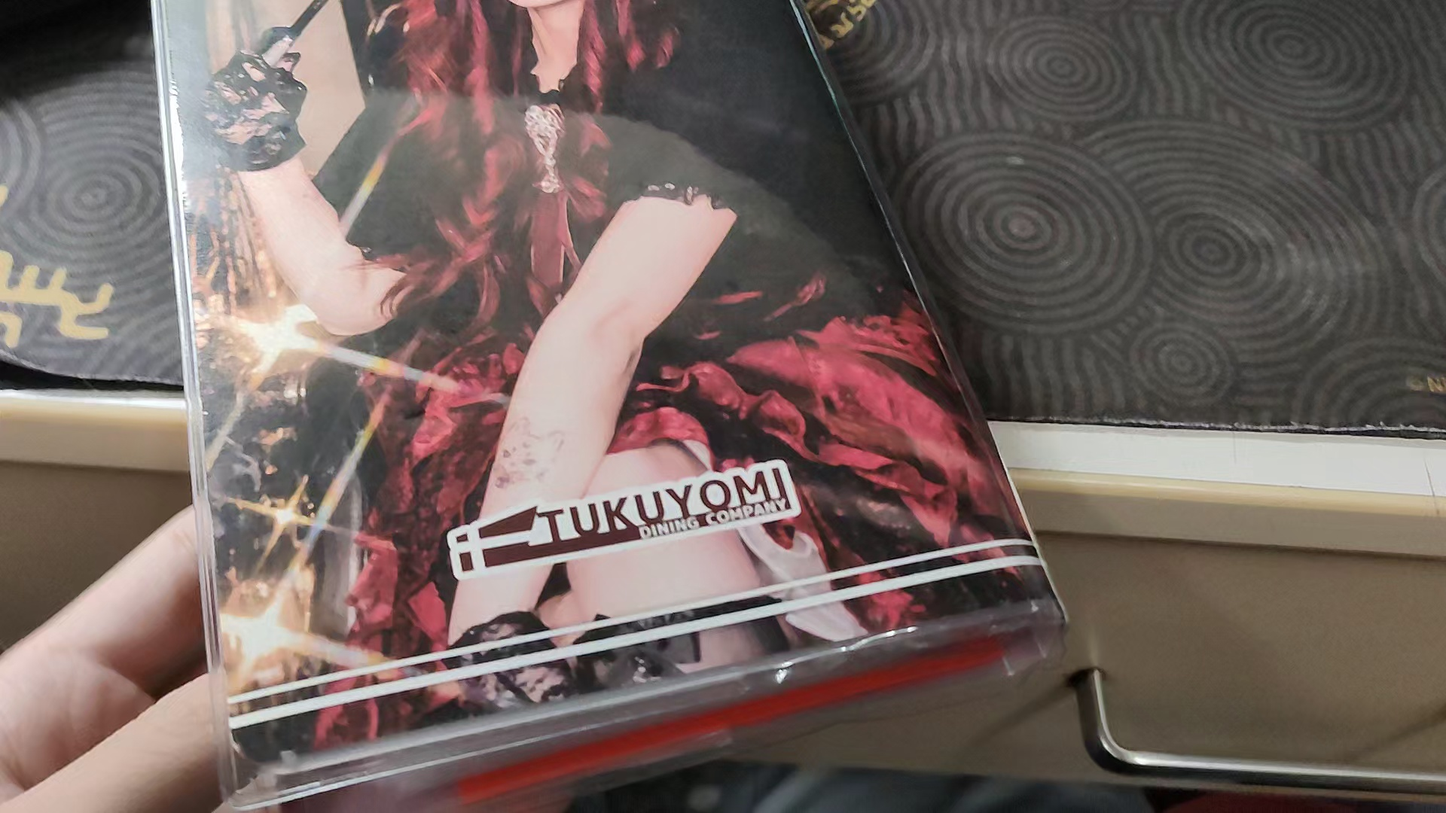Photo_book: (146, 0, 1073, 813)
